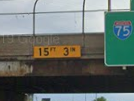1: (37, 46, 43, 57)
3: (61, 46, 69, 56)
5: (42, 45, 50, 58)
overheadsign: (32, 44, 82, 58)
